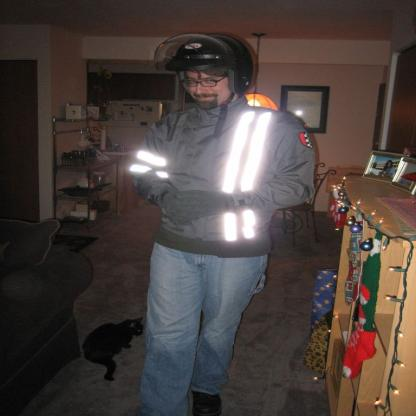Helmet: (157, 31, 259, 105)
